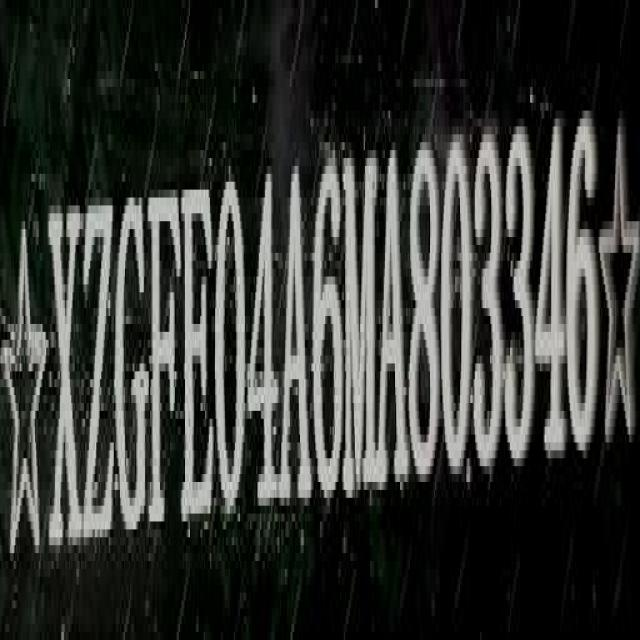0: (215, 174, 248, 520), (441, 132, 473, 487)
3: (474, 124, 504, 482), (506, 124, 536, 480)
4: (536, 106, 568, 472), (250, 168, 281, 520)
6: (313, 148, 343, 510), (569, 105, 599, 463)
8: (409, 134, 441, 491)
A: (281, 161, 311, 519), (381, 137, 408, 496)
E: (183, 178, 213, 532)
F: (150, 181, 182, 541)
G: (114, 193, 150, 541)
M: (346, 143, 379, 505)
X: (49, 198, 79, 565)
Z: (84, 194, 113, 550)
